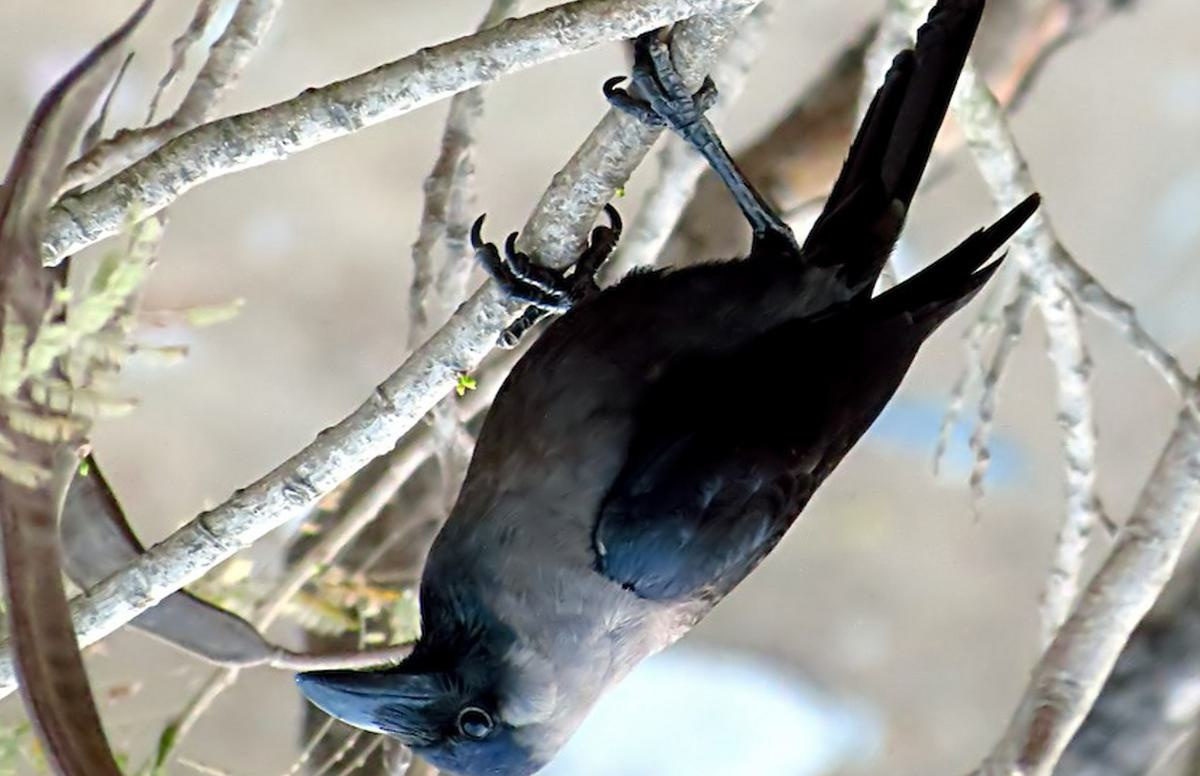crow: (305, 25, 1071, 770)
